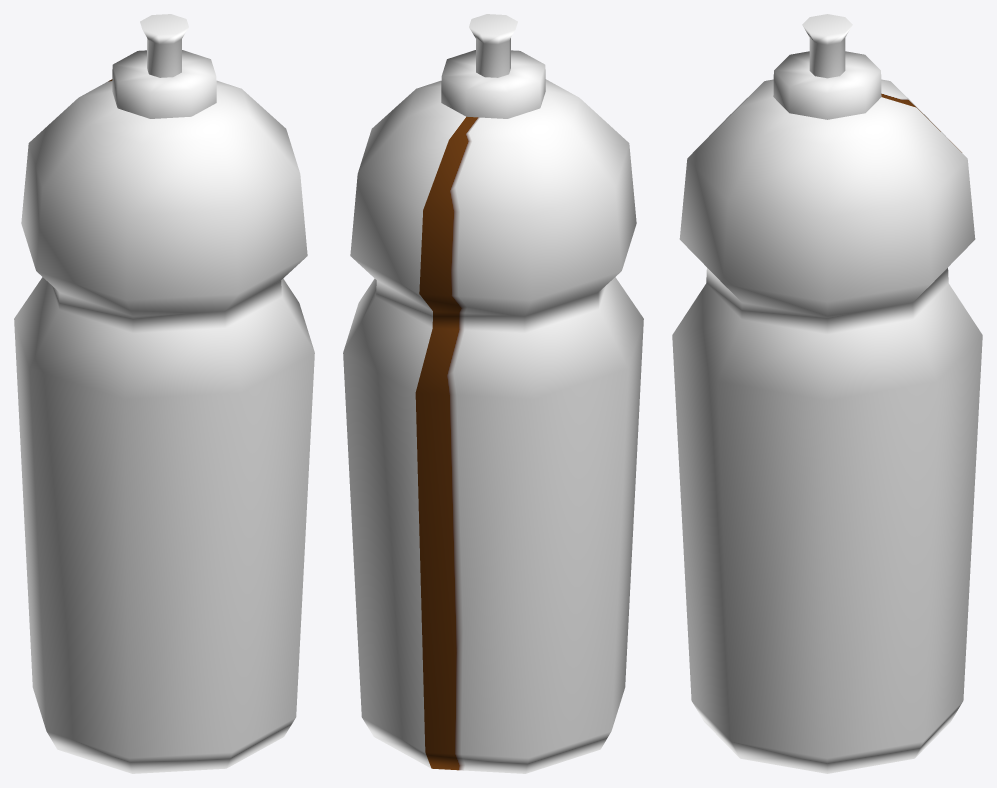
The model's file is bidon4.fbx.
3 renders of one model, left to right at view 1: azimuth 30°, elevation 25°; view 2: azimuth 150°, elevation 25°; view 3: azimuth 270°, elevation 25°, orthographic.
Visible parts, largest first — view 1: bidon2; view 2: bidon2; view 3: bidon2.
Boxes of the visible parts, bbox=[...] form: bidon2: bbox=[14, 14, 314, 773]; bidon2: bbox=[343, 14, 643, 773]; bidon2: bbox=[672, 14, 982, 773].
Bounding box in the file's own units: 3.62 × 8.98 × 3.62.
